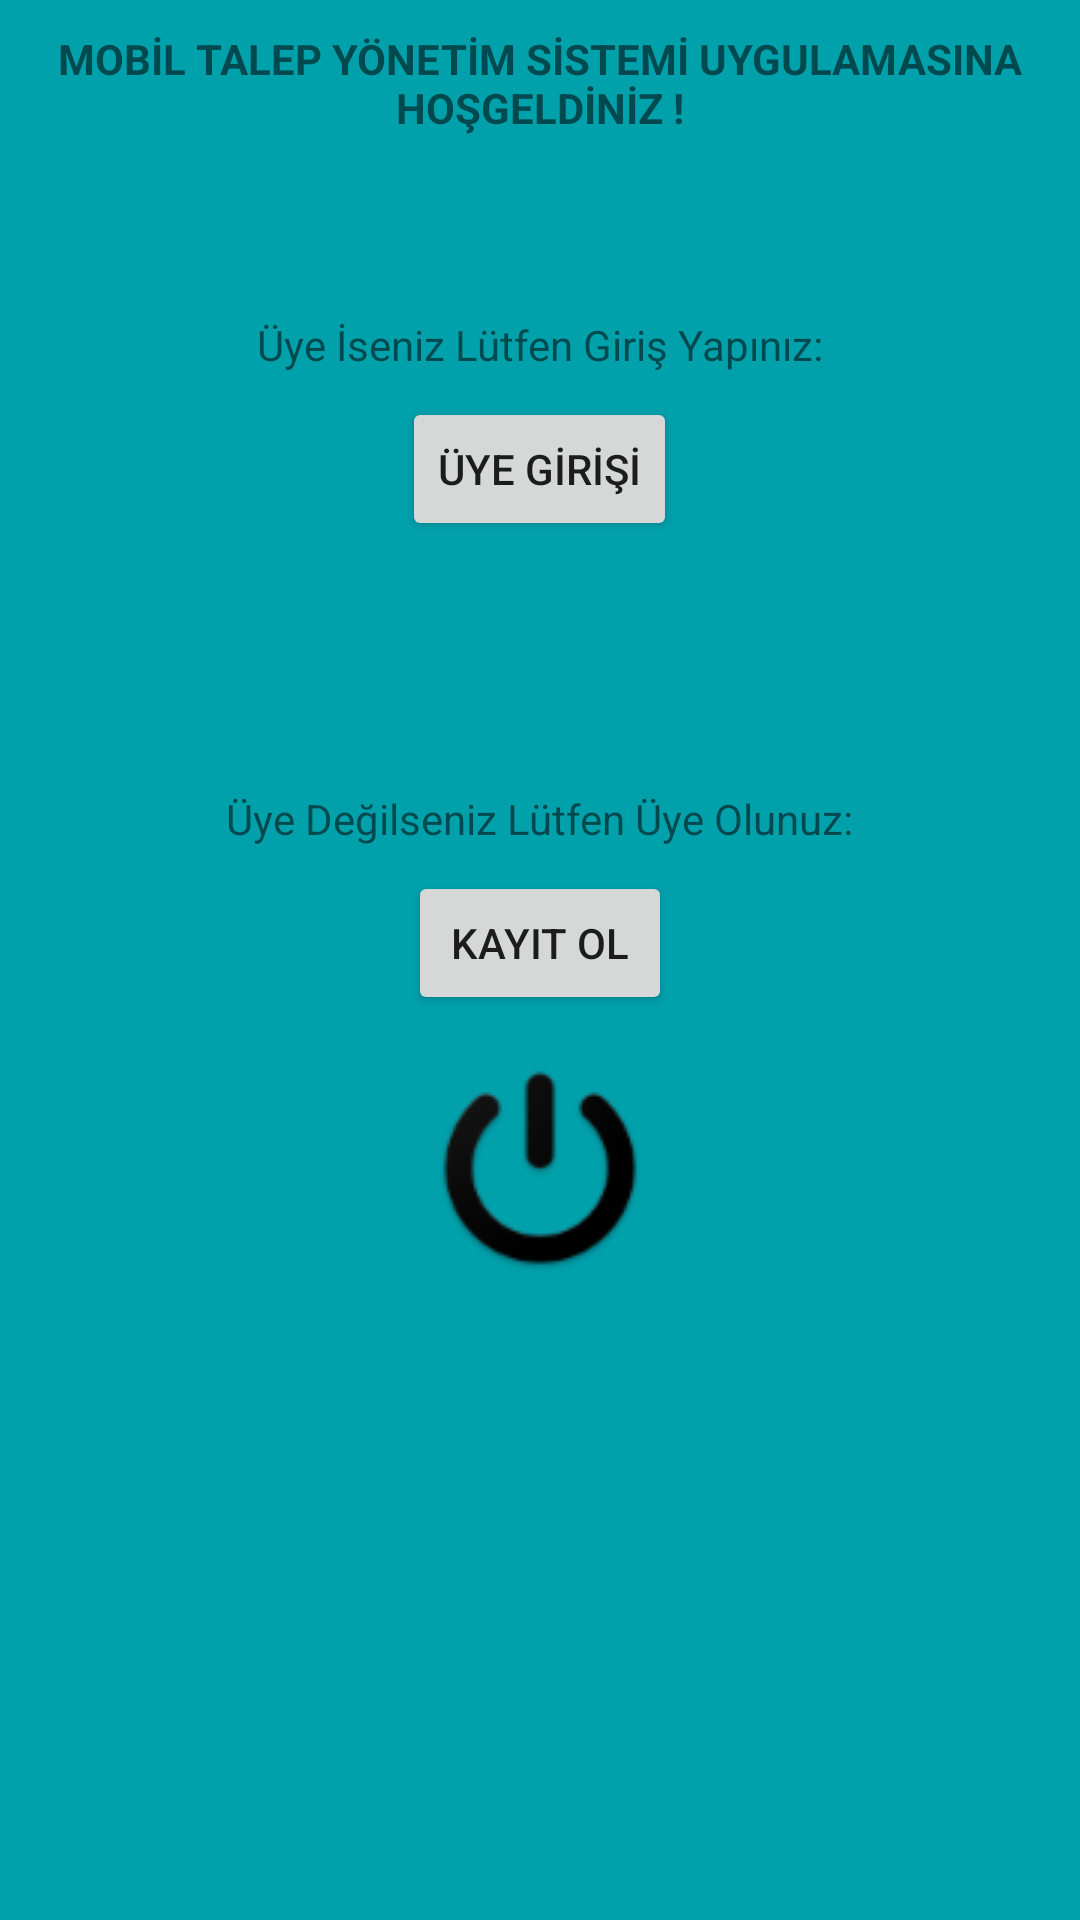

Where to tap for icons on this 1080w x 1920h app screen, as point (x, y):
quit: point (540, 1169)
